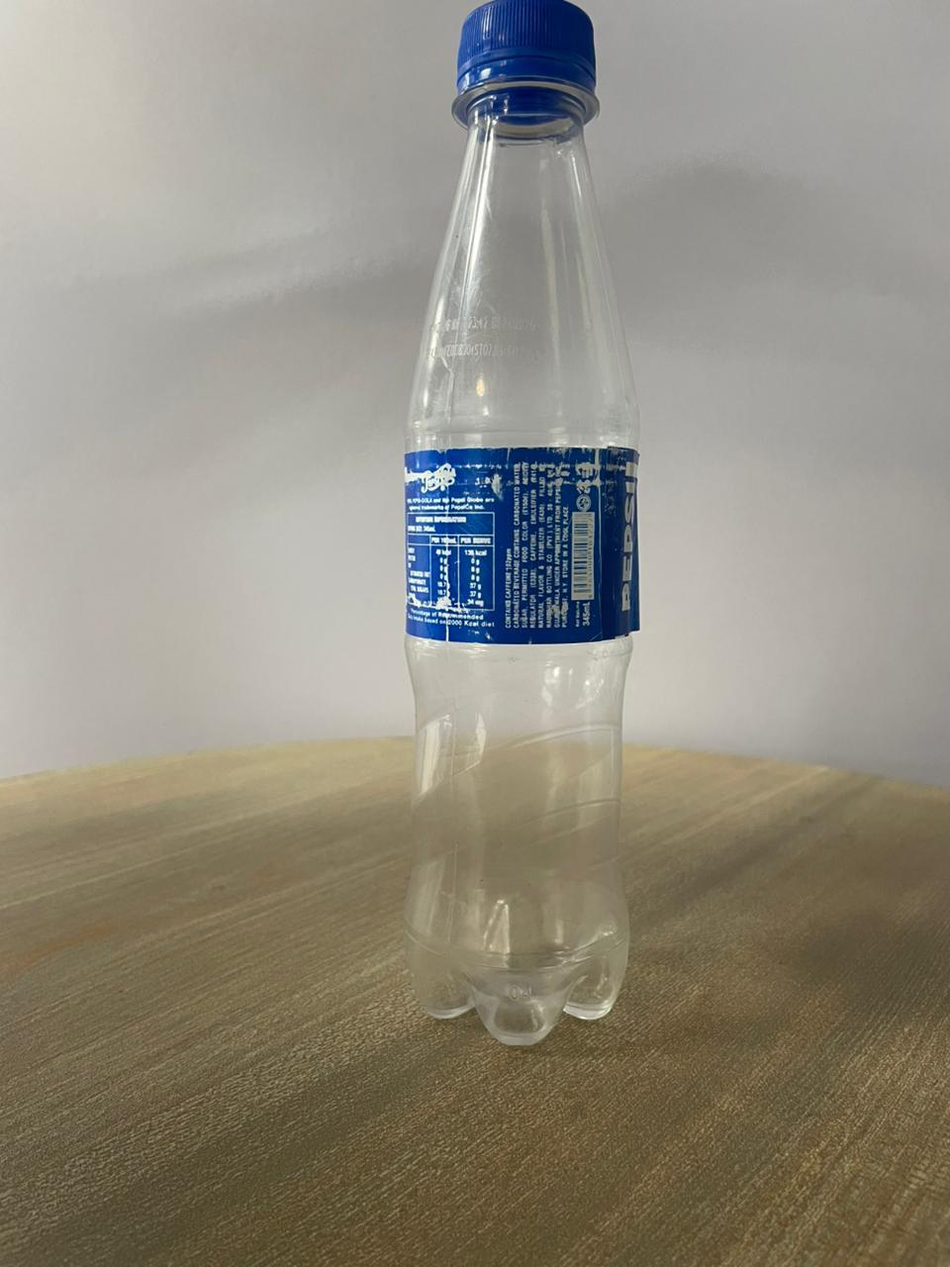Pepsi Bottle: (401, 0, 643, 1061), (406, 0, 649, 1049)
